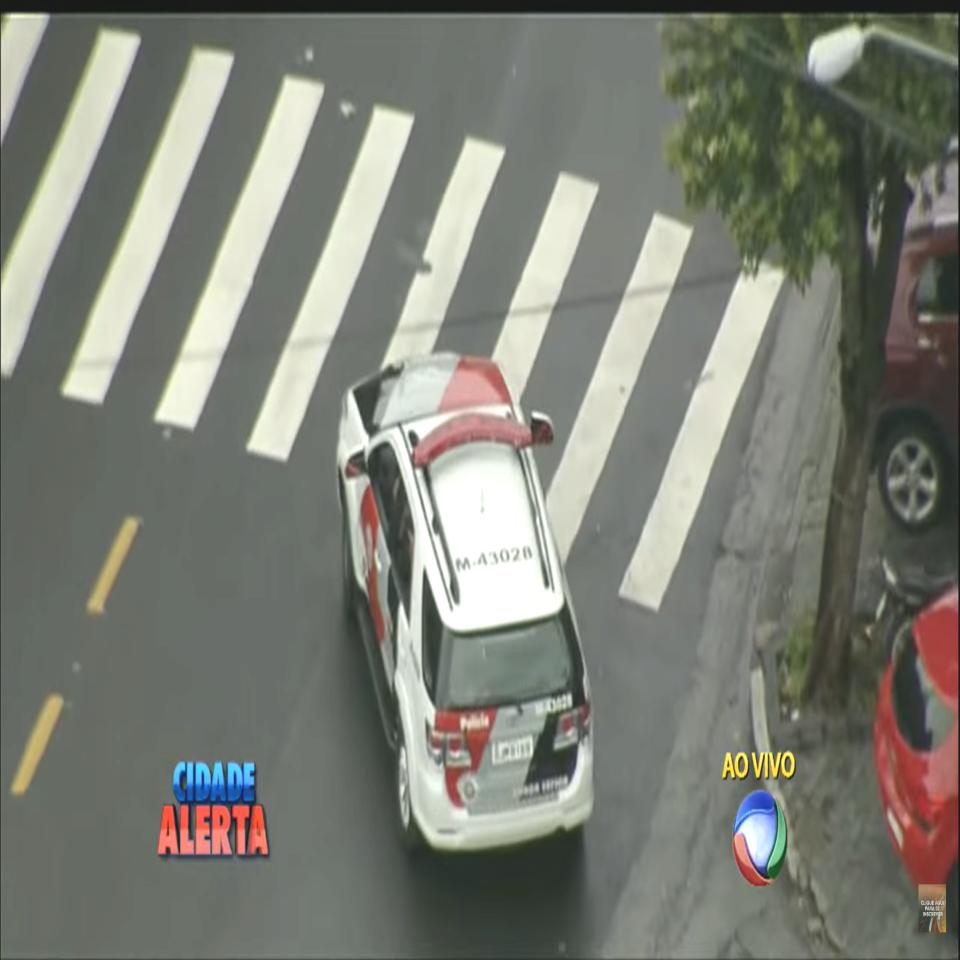viatura: (327, 342, 611, 856)
